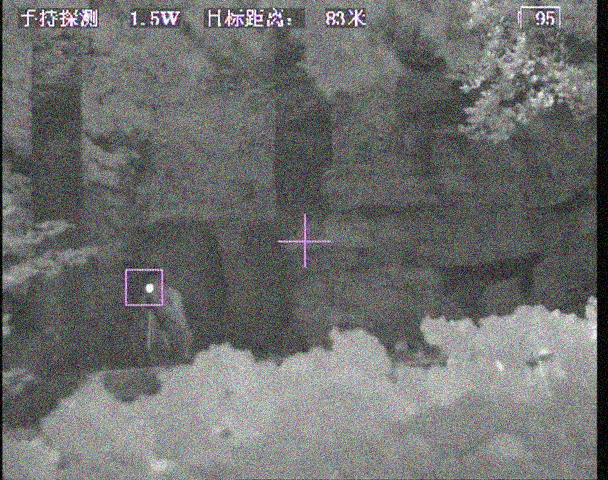my: (144, 282, 156, 293)
